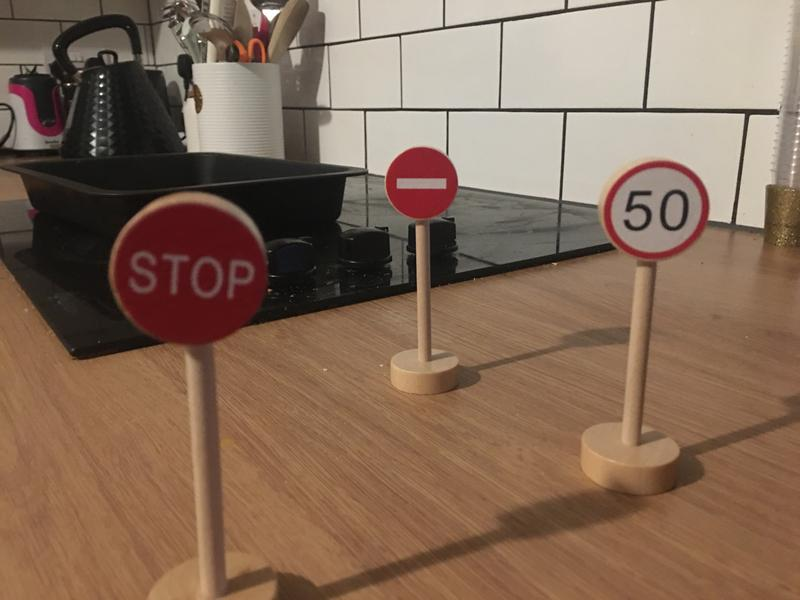Traffic_Sign_50: (603, 164, 709, 260)
Traffic_Sign_No_Entry: (386, 149, 458, 216)
Traffic_Sign_Stop: (109, 201, 265, 345)
